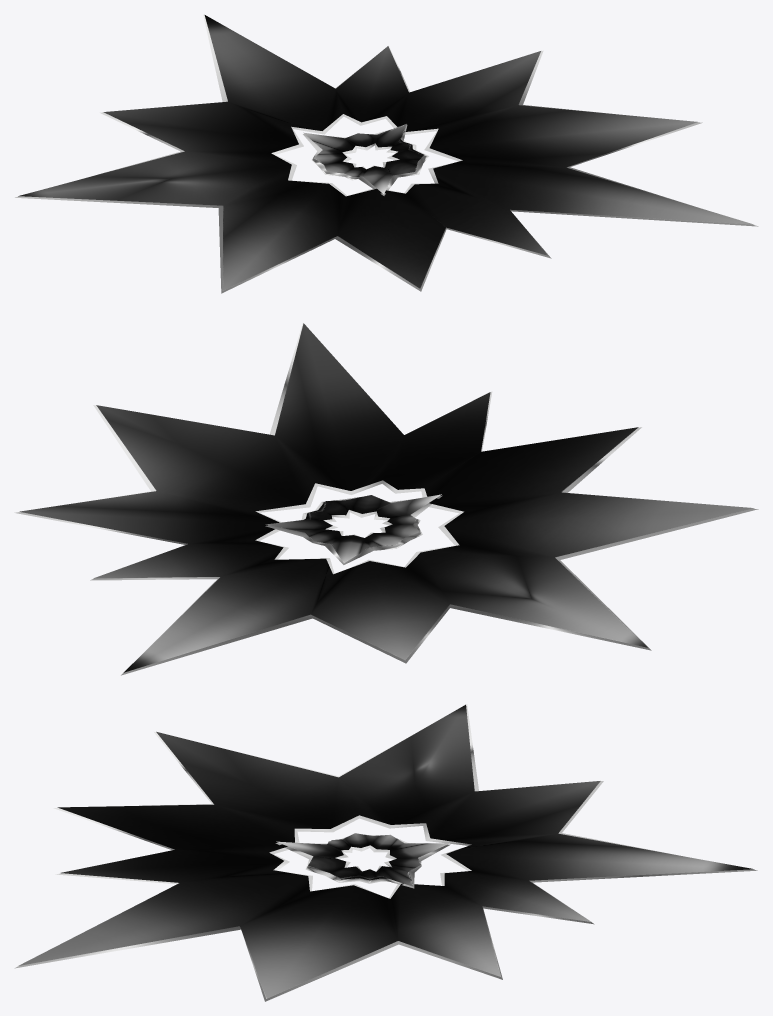
File: Explotion (3).fbx
3 renders of one model, top to bottom at view 1: azimuth 30°, elevation 25°; view 2: azimuth 150°, elevation 25°; view 3: azimuth 270°, elevation 25°, orthographic. The views are drawn at different scales.
Parts seen in each view (by area): view 1: Object_2; view 2: Object_2; view 3: Object_2.
Boxes of the visible parts, x1,y1,x2,y2 form: Object_2: (15, 14, 758, 293); Object_2: (14, 322, 758, 675); Object_2: (14, 704, 757, 1001).
Bounding box in the file's own units: 748 × 4.36 × 712.
Materials: 2 (1 with a texture image).
